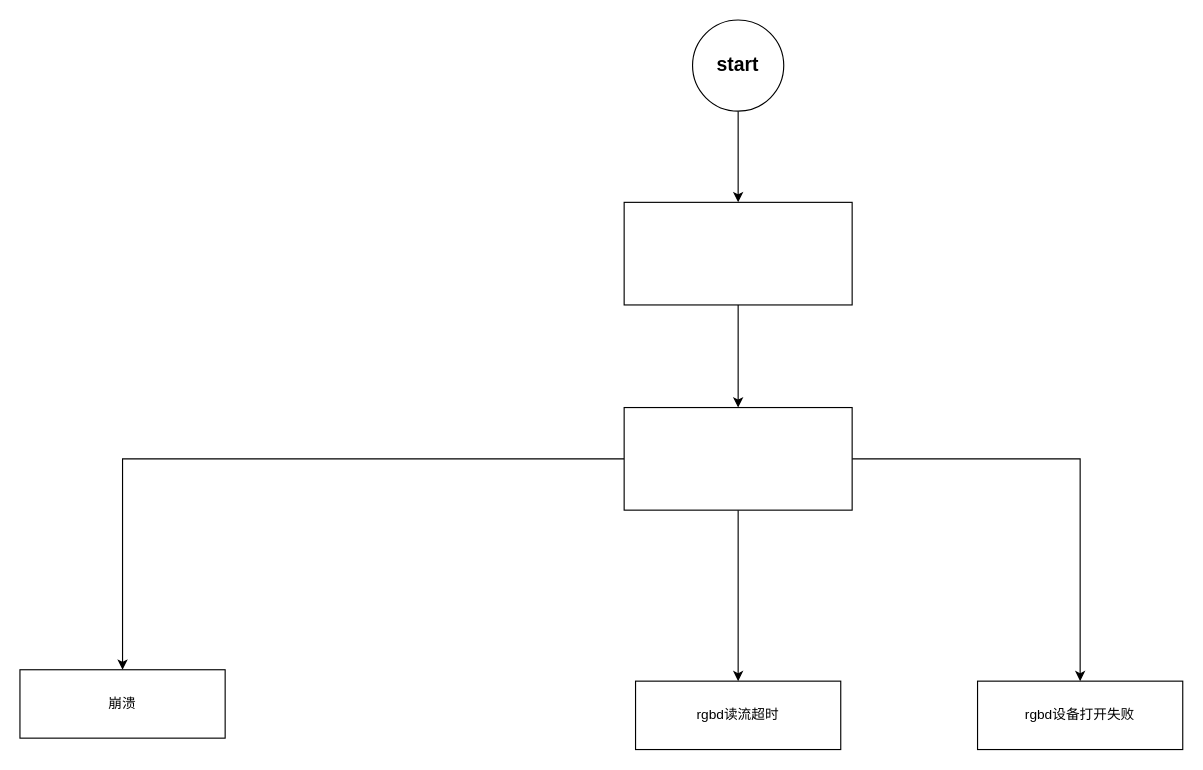
This 1203x770 diagram has some shape labels left out. The centre of each missing label's shape, as x and y in pixels:
拉取日志： 1. Navigation日志 2. logcat 日志 3. kernel 日志: [737,253]
查看 Navigation日志: [737,458]
